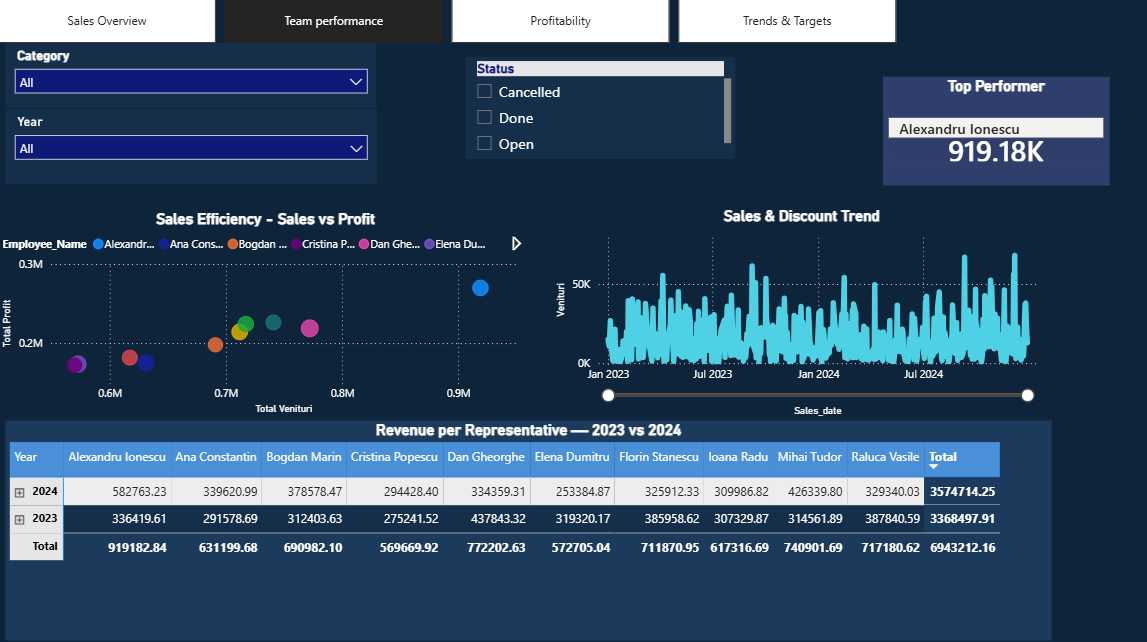

This screenshot's page, from the dashboard's own definition file:
{"tool":"powerbi","page":{"name":"Team performance","canvas":[1280,720],"ordinal":1},"visuals":[{"type":"actionButton","box":[0,0,100,40],"z":0},{"type":"pivotTable","title":"Revenue per Representative —  2023 vs 2024","fields":{"Columns":["Employees.Employee_Name"],"Rows":["Calendar.Year","Calendar.MonthNumber"],"Values":["Vanzari.Venituri Totale"]},"box":[8.2,468.9,1162.3,245.9],"z":1000},{"type":"scatterChart","title":"Sales Efficiency - Sales vs Profit","fields":{"Category":["Angajati.Nume"],"Series":["Angajati.Nume"],"Size":["Sum(Vanzari.Cantitate)"],"X":["Sum(Vanzari.Venituri)"],"Y":["Sum(Vanzari.Profit)"]},"box":[0,234.4,595.1,232.8],"z":2000},{"type":"lineChart","title":"Sales & Discount Trend","fields":{"Category":["Vanzari.Data_Vanzare.Variation.Date Hierarchy.Year"],"Y":["Sum(Vanzari.Venituri)"]},"box":[615.7,231.4,555.7,237.1],"z":3000},{"type":"slicer","fields":{"Values":["Vanzari.Categorie","Vanzari.Status"]},"box":[8.5,49.3,412,72],"z":5000},{"type":"slicer","fields":{"Values":["Vanzari.Status"]},"box":[519,64.7,300,113.3],"z":6000},{"type":"slicer","title":"Year filter","fields":{"Values":["Calendar.Year"]},"box":[8.4,123.1,412.6,83.2],"z":7000},{"type":"pageNavigator","box":[0,0,1000,50],"z":8000},{"type":"cardVisual","title":"Top Performer","fields":{"Data":["Sales.Total Revenue"],"Rows":["Employees.Employee_Name"]},"box":[982.7,88.2,252,120.6],"z":9001}]}

Visuals, with their boxes in screenshot pixels (x1, y1, x2, y2), scaled from the page's 1280x720 canvas onto the 1147x642 screenshot:
actionButton: [left=0, top=0, right=90, bottom=36]
"Revenue per Representative —  2023 vs 2024" pivotTable: [left=7, top=418, right=1049, bottom=637]
"Sales Efficiency - Sales vs Profit" scatterChart: [left=0, top=209, right=533, bottom=417]
"Sales & Discount Trend" lineChart: [left=552, top=206, right=1050, bottom=418]
slicer - Vanzari.Categorie x Vanzari.Status: [left=8, top=44, right=377, bottom=108]
slicer - Vanzari.Status: [left=465, top=58, right=734, bottom=159]
"Year filter" slicer: [left=8, top=110, right=377, bottom=184]
pageNavigator: [left=0, top=0, right=896, bottom=45]
"Top Performer" cardVisual: [left=881, top=79, right=1106, bottom=186]
